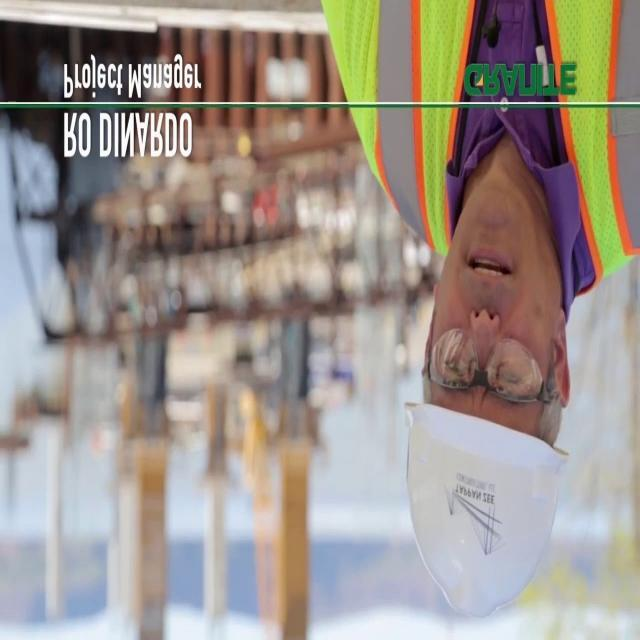safetyhelmet: (404, 278, 578, 620)
